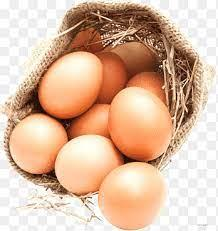egg: (110, 88, 174, 164), (100, 160, 168, 230), (38, 48, 102, 116), (53, 133, 125, 192), (9, 114, 68, 178), (112, 42, 158, 72), (103, 49, 125, 106)
